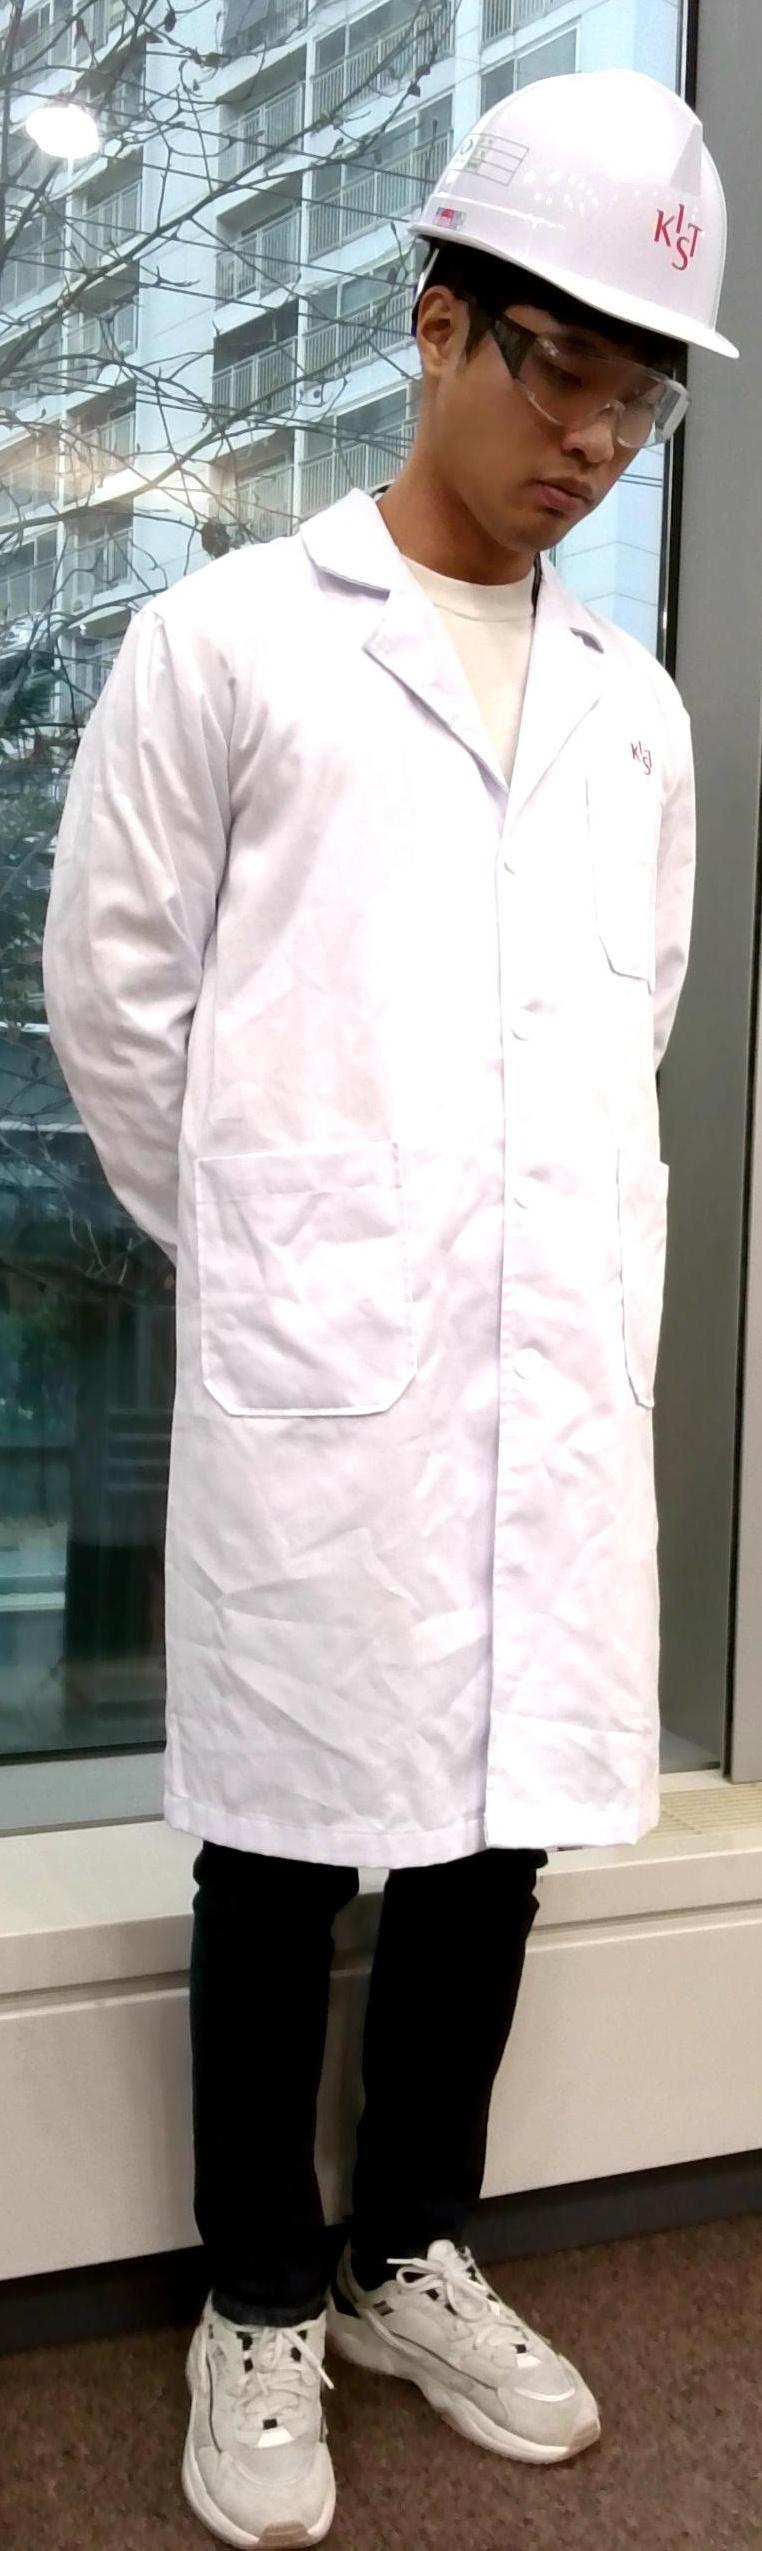lab_coat: (111, 581, 710, 1868)
